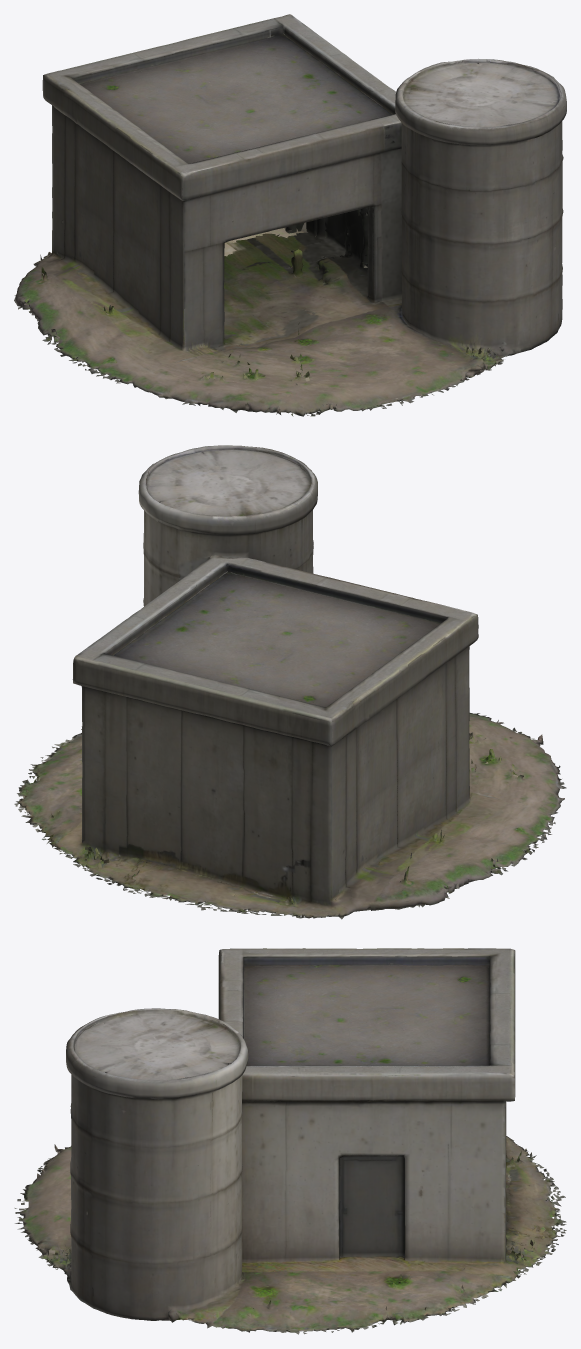
The model's file is waterworks.glb.
The picture shows the model from 3 angles, top to bottom: view 1: azimuth 30°, elevation 25°; view 2: azimuth 150°, elevation 25°; view 3: azimuth 270°, elevation 25°; orthographic projection. The views are drawn at different scales.
Parts seen in each view (by area): view 1: Mesh_0; view 2: Mesh_0; view 3: Mesh_0.
Boxes of the visible parts, <box> form: Mesh_0: <box>14,14,566,416</box>; Mesh_0: <box>14,445,566,919</box>; Mesh_0: <box>14,948,566,1334</box>.
Bounding box in the file's own units: 7.16 × 3.5 × 7.2.
1 material, 1 textured.
